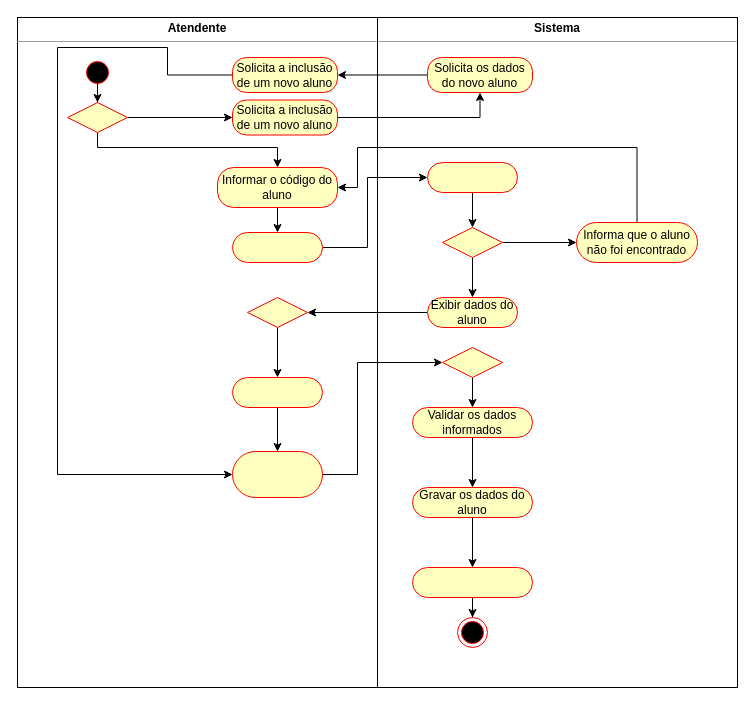
Some shapes in this 755 by 705 pixel diagram are drawn without their labels. The centre of each missing label's shape, as x and y in pixels:
"Editar os dados do aluno" belongs at [277,392].
"Encerrar módulo de cadastro" belongs at [472,582].
"Pesquisar dados do aluno" belongs at [472,177].
"Solicitar busca" belongs at [277,247].
"Solicitar gravação dos dados" belongs at [277,474].
